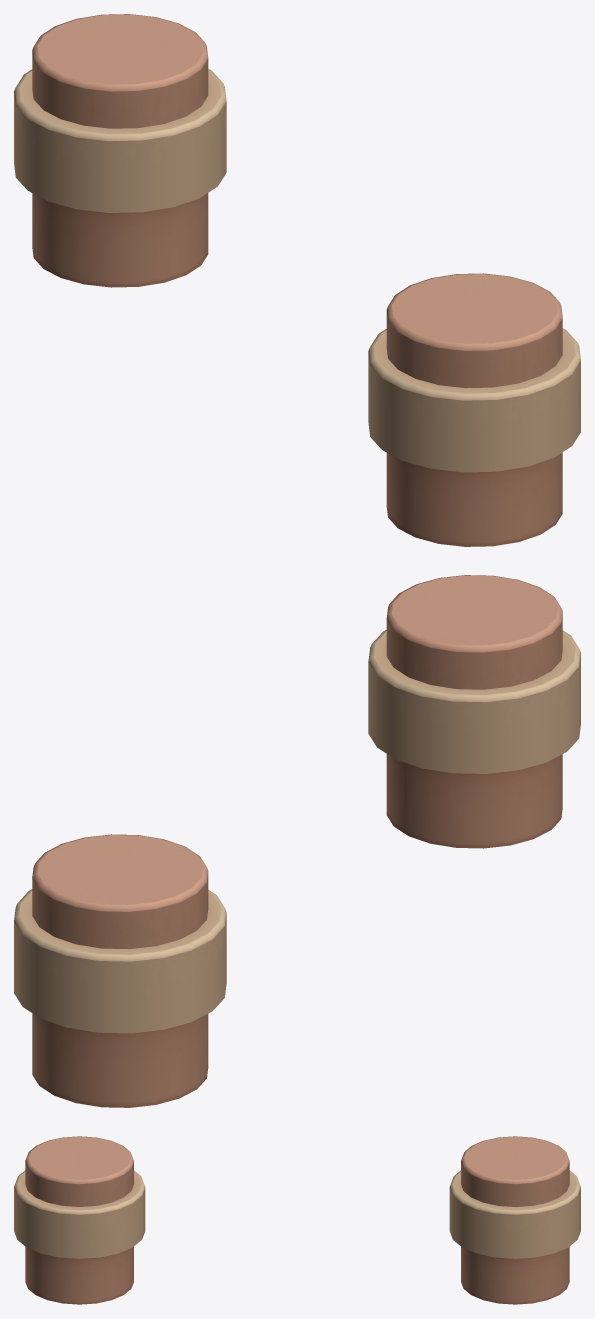
File: Props.fbx
3 renders of one model, top to bottom at view 1: azimuth 30°, elevation 25°; view 2: azimuth 150°, elevation 25°; view 3: azimuth 270°, elevation 25°, orthographic. The views are drawn at different scales.
Visible parts, largest first — view 1: Cylinder, Cylinder (1); view 2: Cylinder (1), Cylinder; view 3: Cylinder, Cylinder (1).
Part boxes in pixels (box(x1,y1,x2,y2)): Cylinder: box(368, 273, 580, 546); Cylinder (1): box(14, 14, 226, 287); Cylinder (1): box(14, 834, 226, 1107); Cylinder: box(368, 575, 580, 848); Cylinder: box(14, 1136, 145, 1304); Cylinder (1): box(449, 1136, 580, 1304).
Size of the model in its own units: 4.82 by 5 by 20.82.
Materials: 1 (1 with a texture image).
